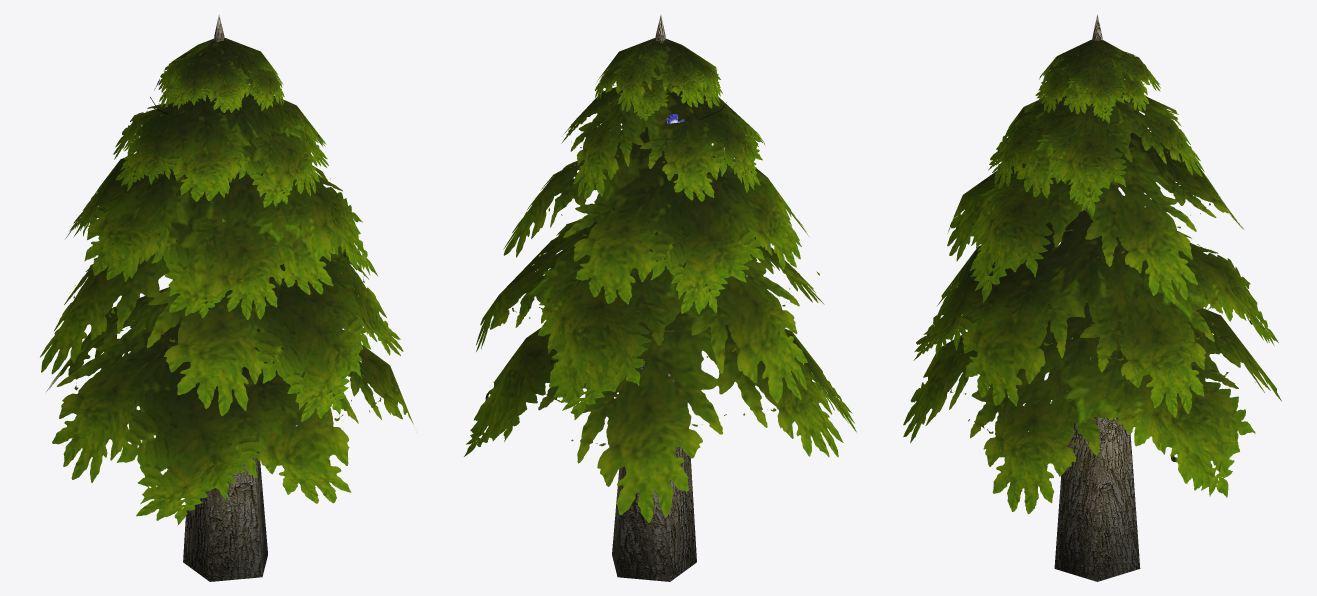
The model's file is Tree_2b_atlas.fbx.
The picture shows the model from 3 angles, left to right: view 1: azimuth 30°, elevation 25°; view 2: azimuth 150°, elevation 25°; view 3: azimuth 270°, elevation 25°; orthographic projection.
Parts seen in each view (by area): view 1: polySurface76; view 2: polySurface76; view 3: polySurface76.
Boxes of the visible parts, x1,y1,x2,y2 form: polySurface76: (40, 14, 413, 581); polySurface76: (464, 15, 856, 581); polySurface76: (903, 14, 1281, 581).
Size of the model in its own units: 4.25 by 6.22 by 4.25.
